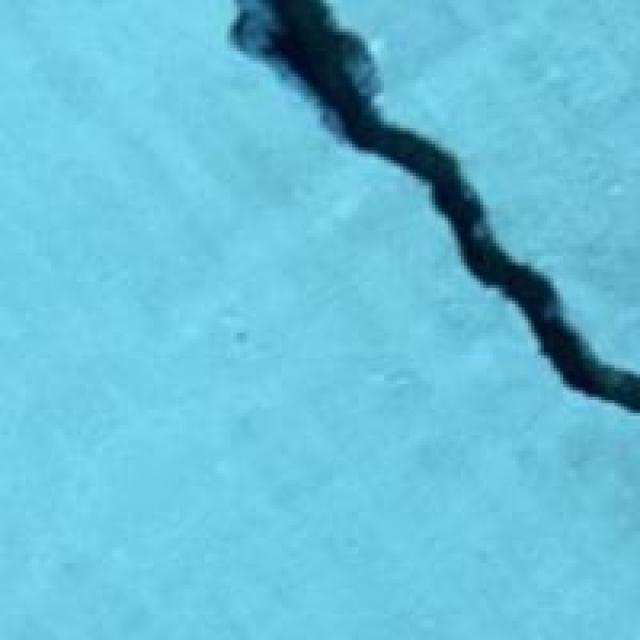Crack: (192, 0, 637, 528)
